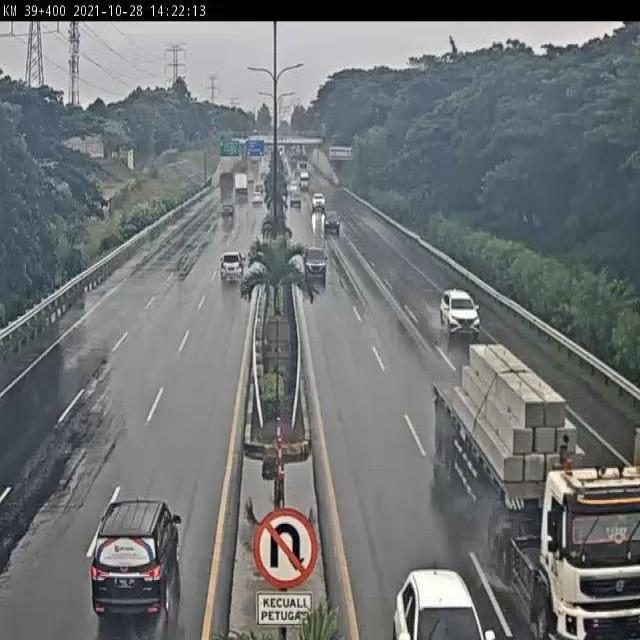big truck: (501, 437, 640, 640)
car: (86, 478, 186, 630), (389, 565, 497, 640), (440, 287, 485, 337), (216, 244, 245, 288), (302, 240, 329, 287), (215, 197, 238, 224), (320, 212, 341, 235), (310, 187, 328, 212)
